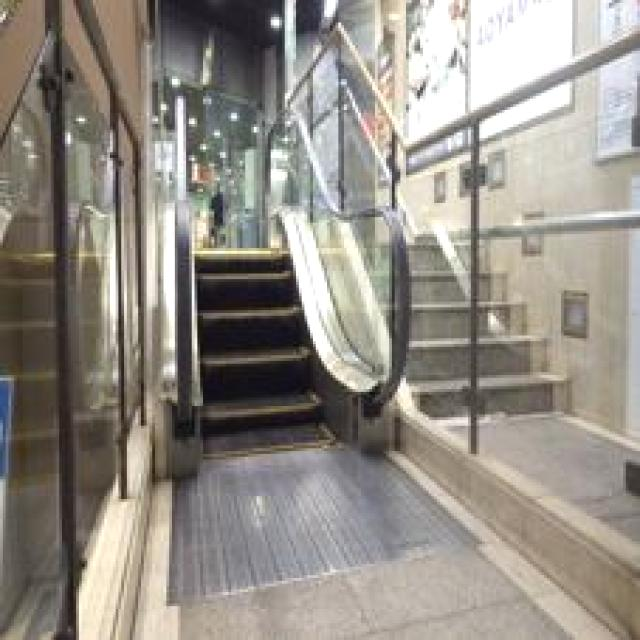stair: (193, 248, 338, 456)
